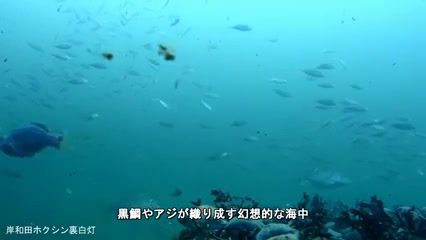smallfish: (1, 116, 78, 164)
